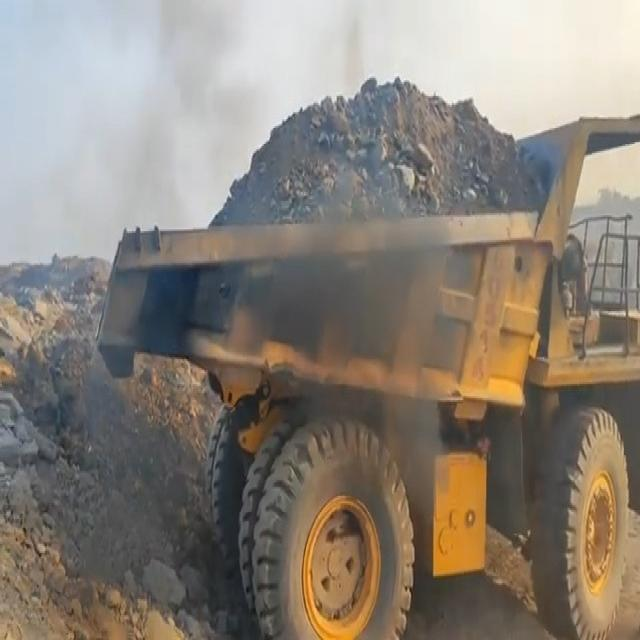dump_truck: (95, 75, 640, 640)
